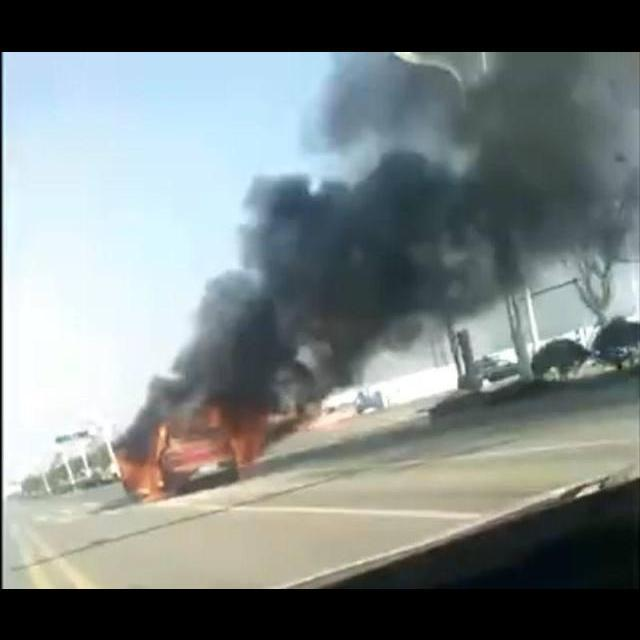Fire: (110, 410, 266, 500)
Smoke: (150, 53, 640, 401)
